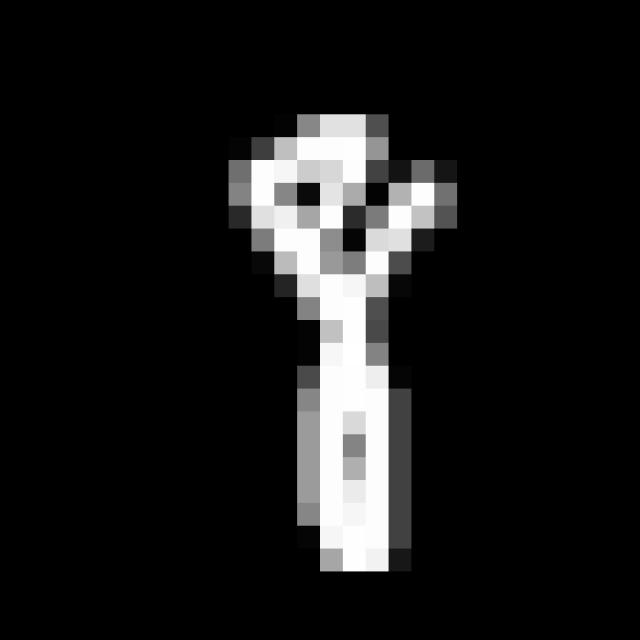eight -8-: (238, 114, 451, 581)
